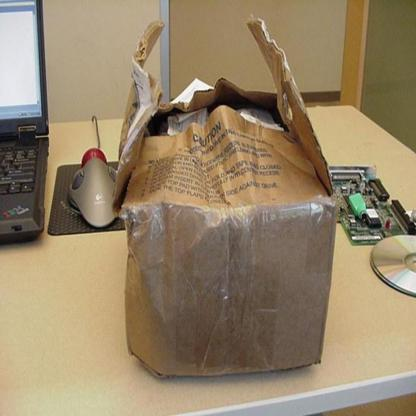board: (0, 12, 47, 233)
